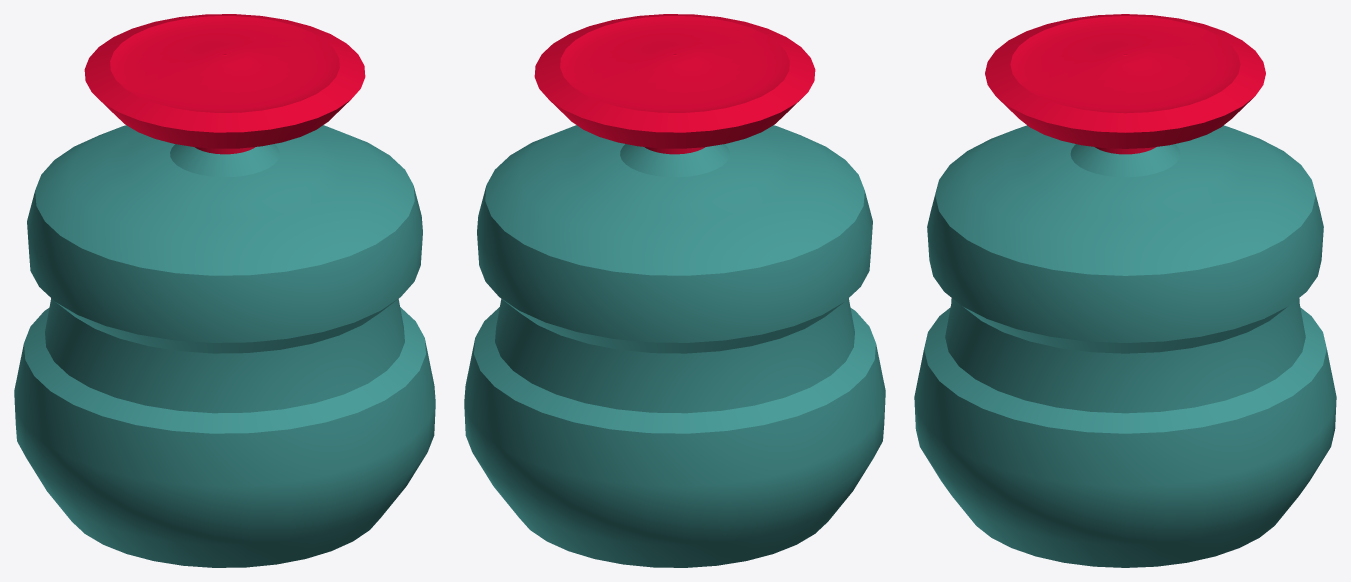
Rendered from bottle40.glb.
3 views of the same model, side by side, from view 1: azimuth 30°, elevation 25°; view 2: azimuth 150°, elevation 25°; view 3: azimuth 270°, elevation 25° (orthographic).
Parts seen in each view (by area): view 1: Bottle40; view 2: Bottle40; view 3: Bottle40.
Part boxes in pixels (x1=…): Bottle40: x1=14, y1=14, x2=435, y2=567; Bottle40: x1=464, y1=14, x2=885, y2=567; Bottle40: x1=914, y1=14, x2=1336, y2=567.
Bounding box in the file's own units: 2.57 × 2.99 × 2.57.
